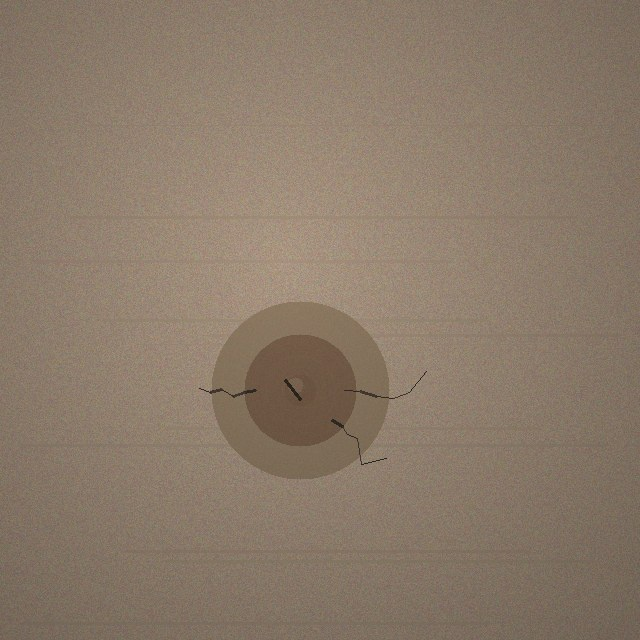crack: (211, 301, 389, 479)
